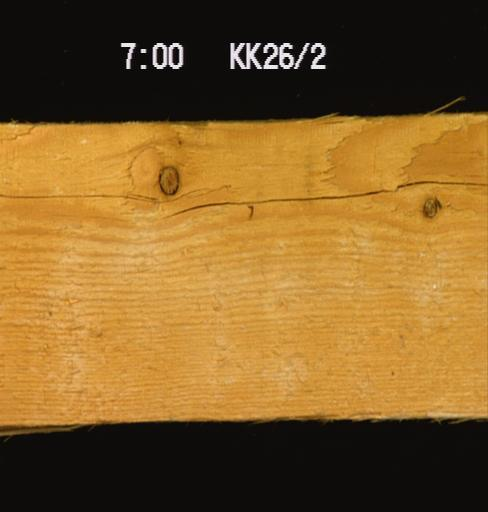dry_knot: (155, 162, 178, 196), (419, 192, 441, 220)
split: (162, 175, 486, 217), (0, 181, 242, 206)
